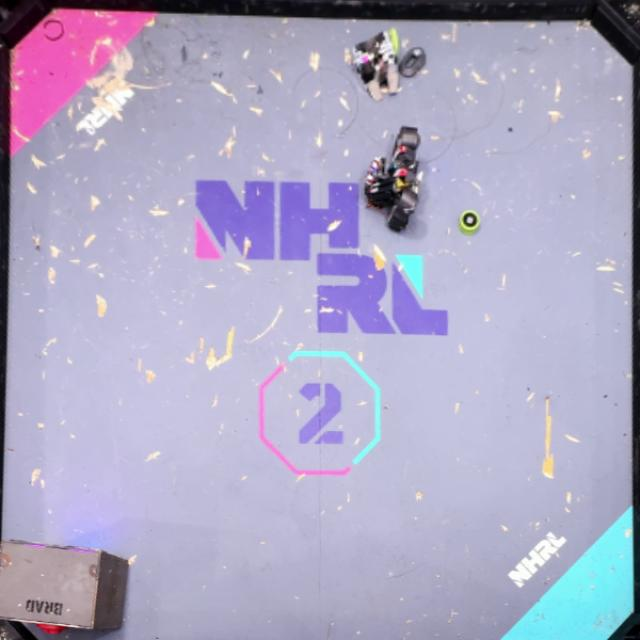housebot: (0, 538, 129, 636)
robot: (364, 126, 419, 231), (354, 27, 400, 102)
